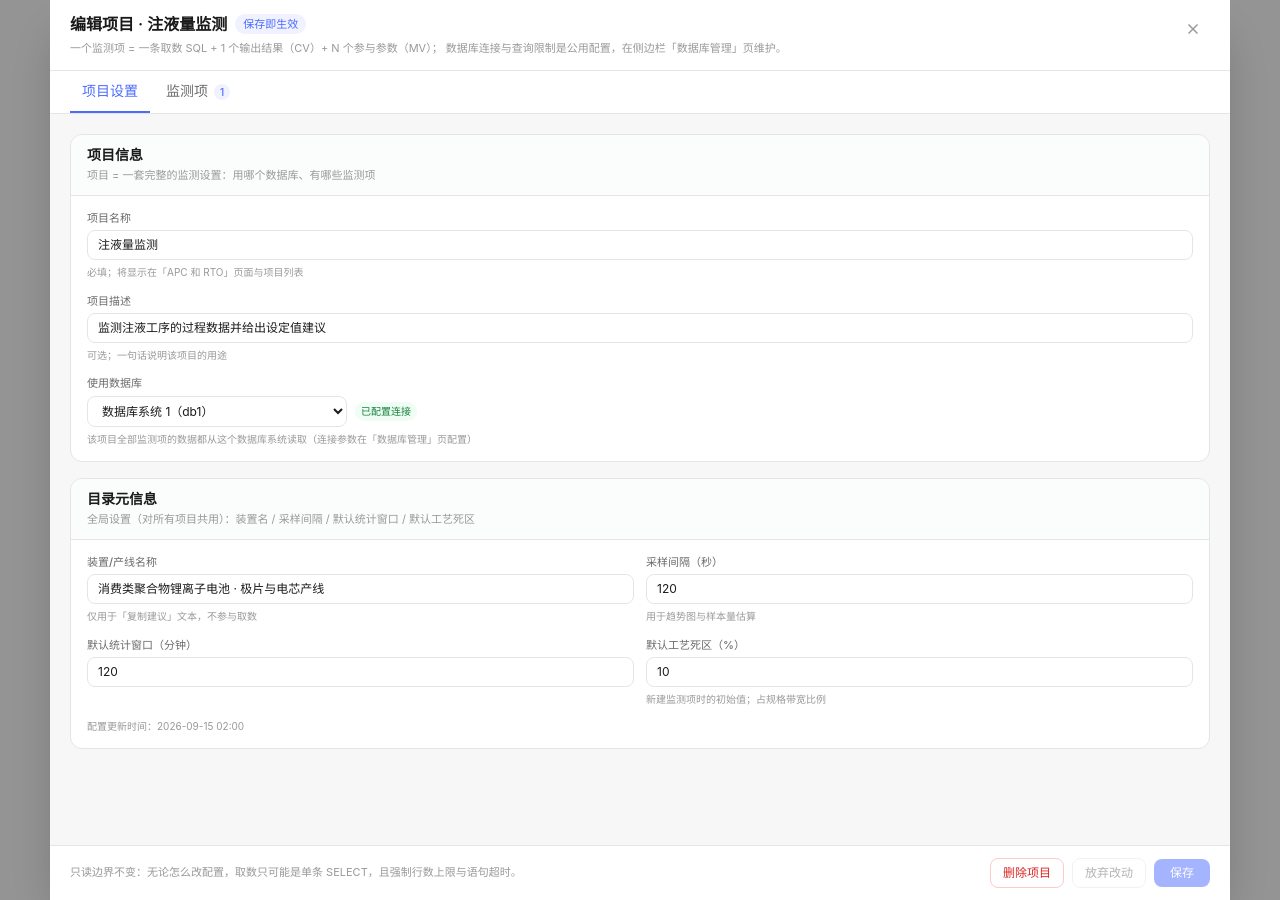
Test: ApcConfigPanel · 监测项 › 新增监测项后缺必填项时报错且不提交（不会静默创建一个空监测项）
This screenshot has width=1280, height=900.
Expected: the field showing "注液量监测" is shown, [87,230,1193,260]
Step 1. Click the button "监测项1" → coordinates (198, 92), box [154,71,242,114]
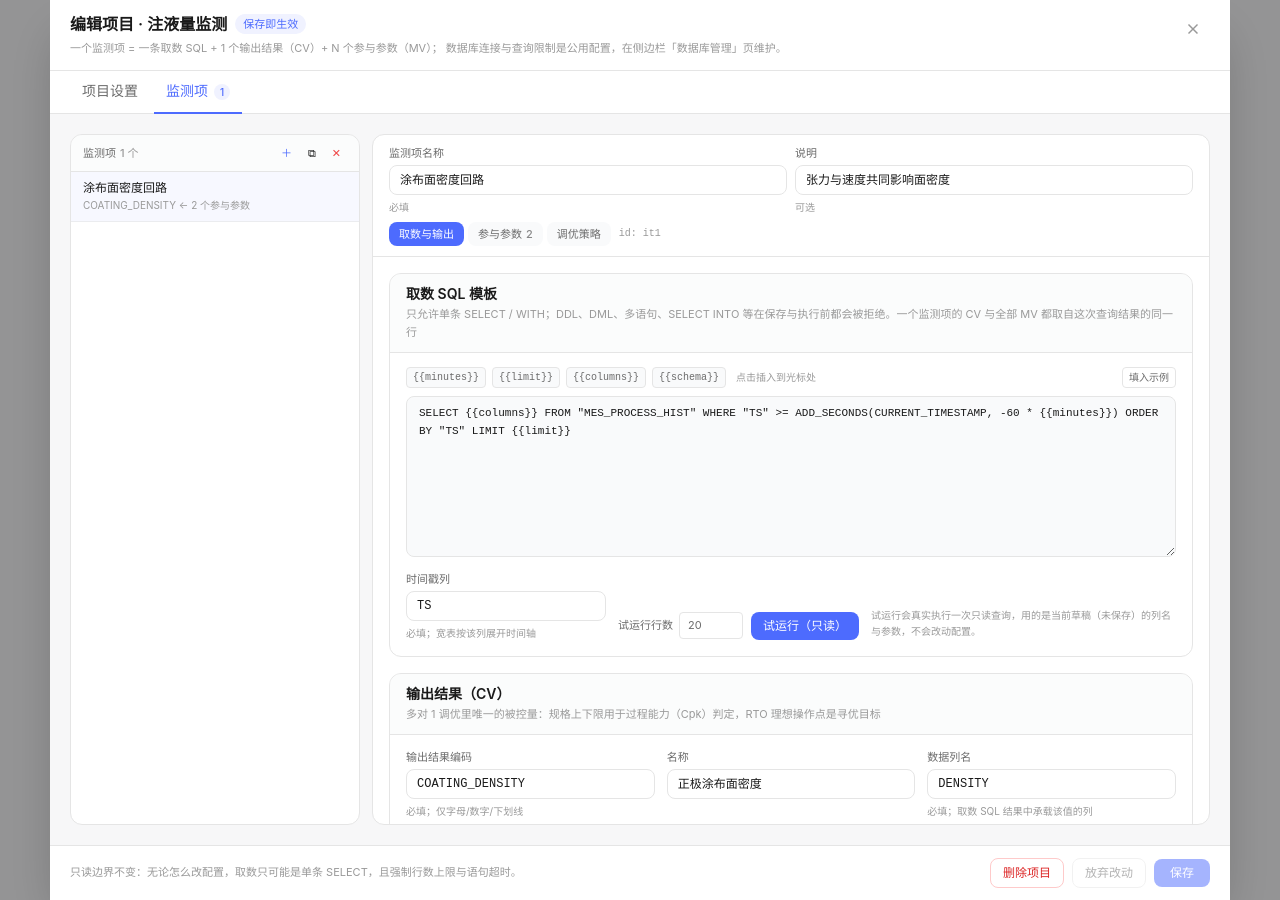
Step 2. Click the button titled "新增监测项" → coordinates (286, 153), box [275,143,298,163]
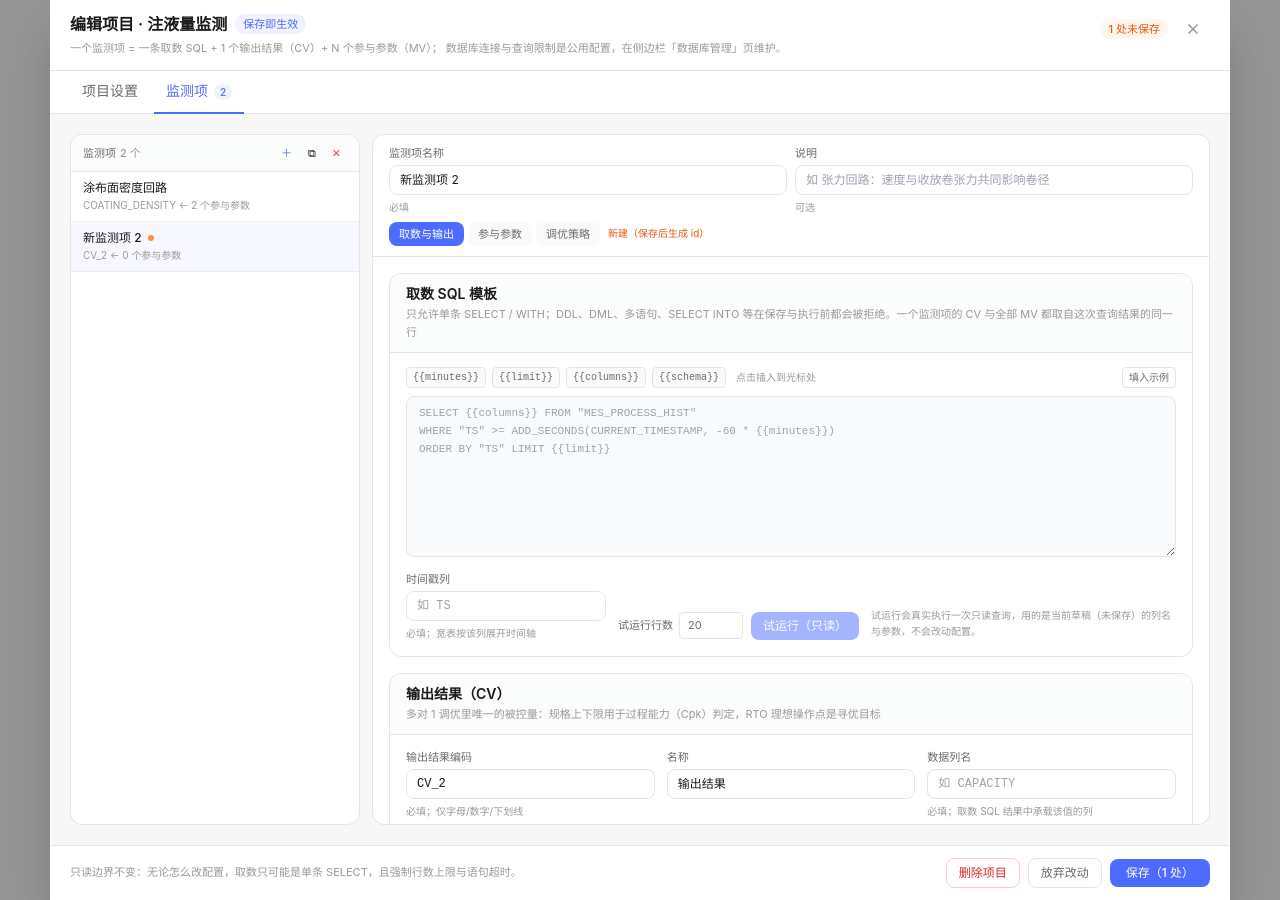
Now the field showing "新监测项 2" is shown, box [389,165,787,195]
Step 3. Click the button "保存（1 处）" → coordinates (1160, 873), box [1110,859,1210,887]
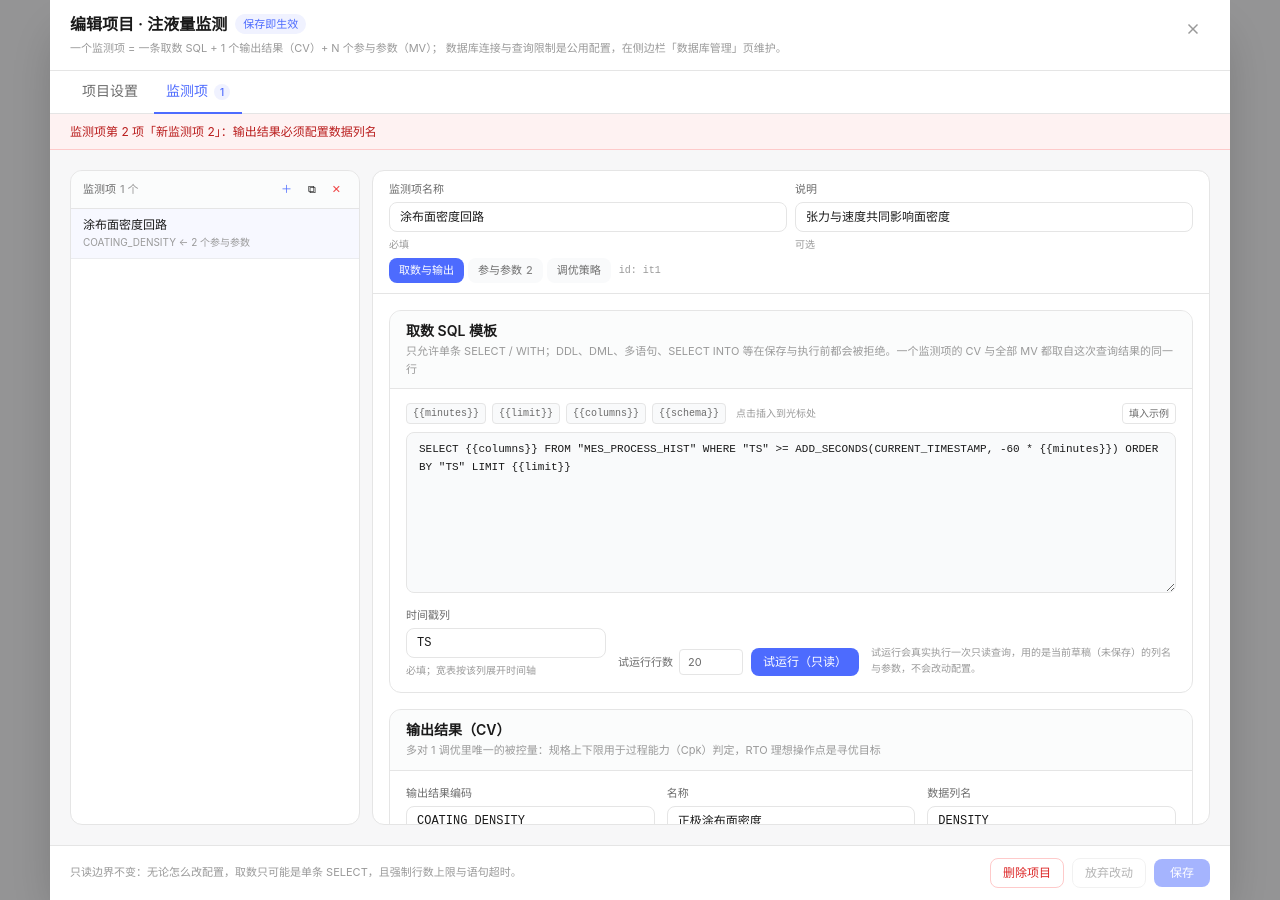
Now the text "监测项第 2 项「新监测项 2」：输出结果必须配置数据列名" is shown, box [50,114,1230,150]
